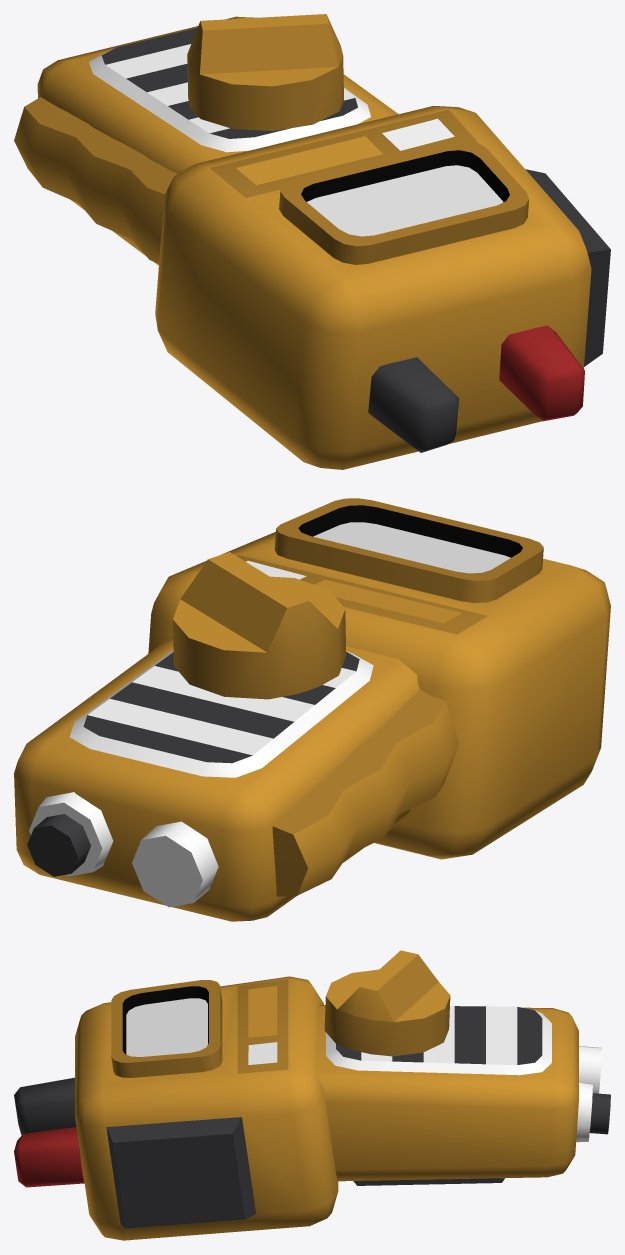
File: multitool.fbx
The picture shows the model from 3 angles, top to bottom: view 1: azimuth 30°, elevation 25°; view 2: azimuth 150°, elevation 25°; view 3: azimuth 270°, elevation 25°; orthographic projection. The views are drawn at different scales.
Parts seen in each view (by area): view 1: MultiTool; view 2: MultiTool; view 3: MultiTool.
Part boxes in pixels (x1,y1,x2,y2): MultiTool: (14,14,610,469); MultiTool: (14,498,610,921); MultiTool: (14,950,610,1240).
Bounding box in the file's own units: 0.2117 × 0.1754 × 0.4135.
